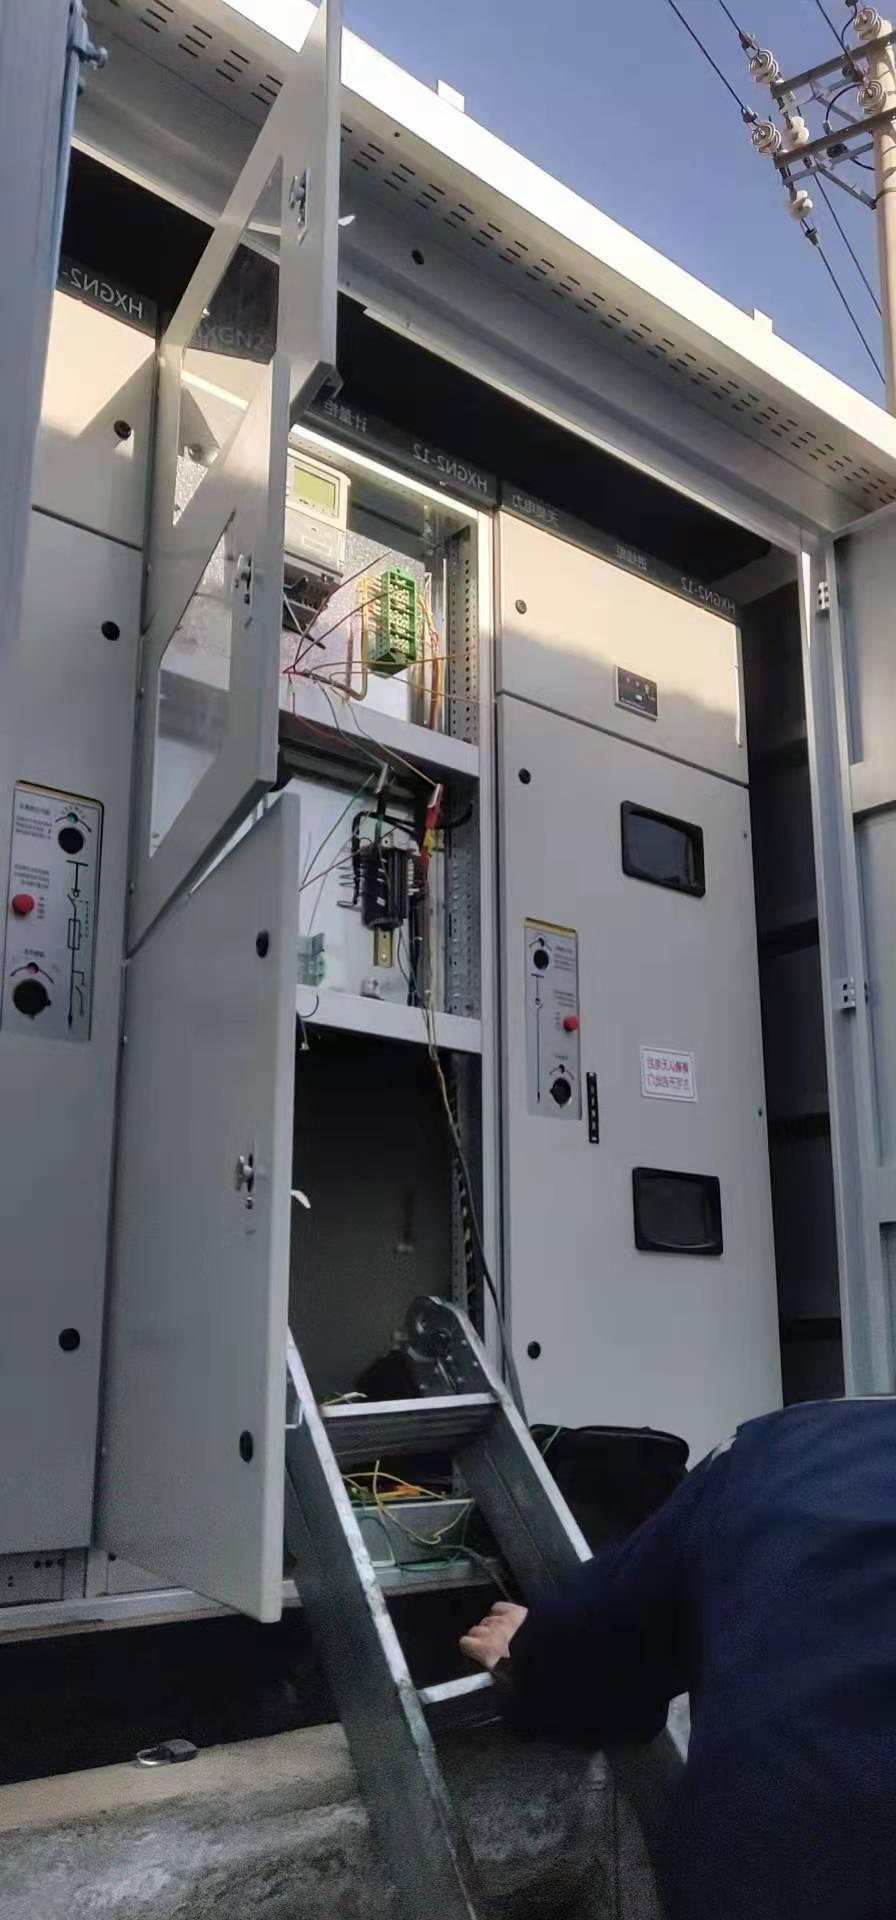digital: (285, 447, 349, 580)
